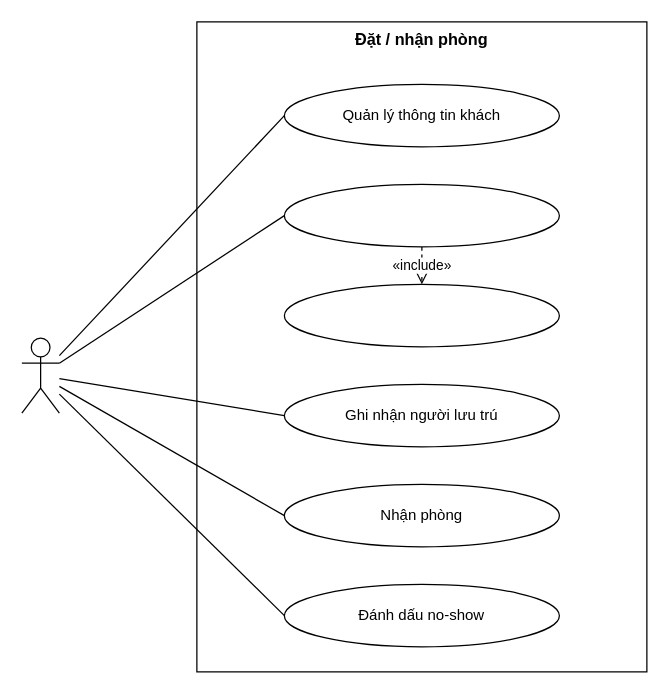
The diagram is 669 pixels wide and 694 high, and some of its shapes have lost their labels. The box of each missing label's shape, as (x1, y1, x2, y2) in pixels:
Kiểm tra sức chứa, trùng lịch: (283, 283, 559, 347)
Lập phiếu đặt phòng: (283, 183, 559, 247)
Lễ tân: (21, 337, 59, 413)
